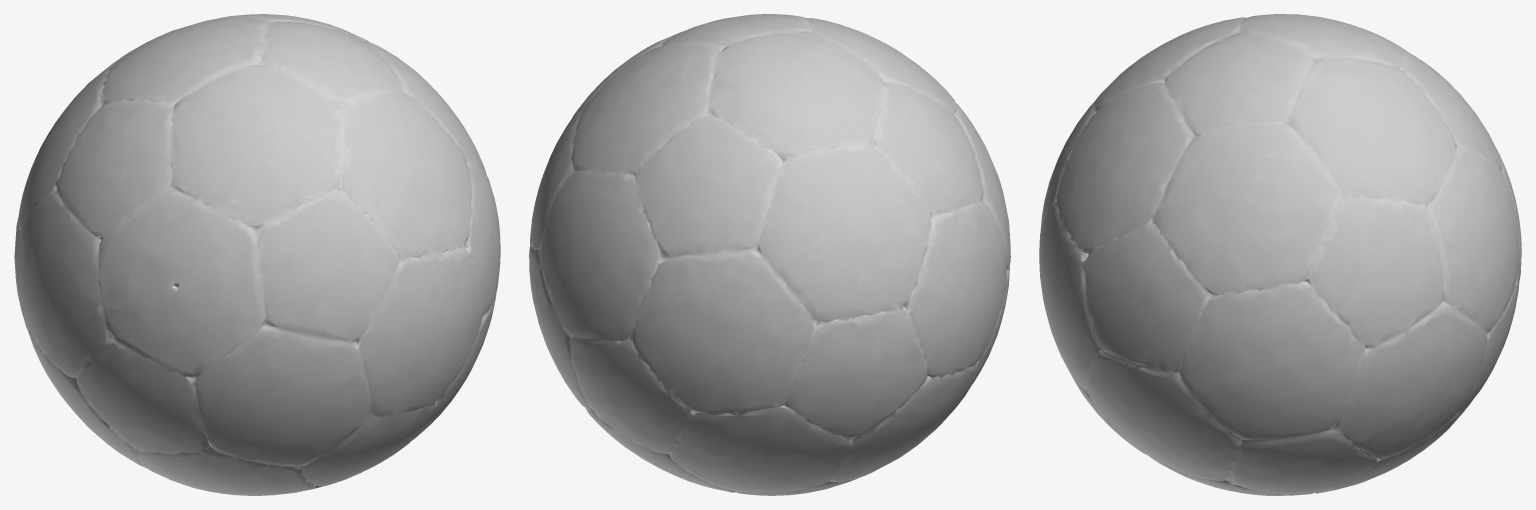
Rendered from ball.glb.
3 renders of one model, left to right at view 1: azimuth 30°, elevation 25°; view 2: azimuth 150°, elevation 25°; view 3: azimuth 270°, elevation 25°, orthographic.
Visible parts, largest first — view 1: Ball; view 2: Ball; view 3: Ball.
Part boxes in pixels (x1,y1,x2,y2): Ball: [14, 14, 500, 495]; Ball: [529, 14, 1010, 495]; Ball: [1039, 14, 1521, 495].
Size of the model in its own units: 0.2214 by 0.22 by 0.22.
Materials: 1 (1 with a texture image).
